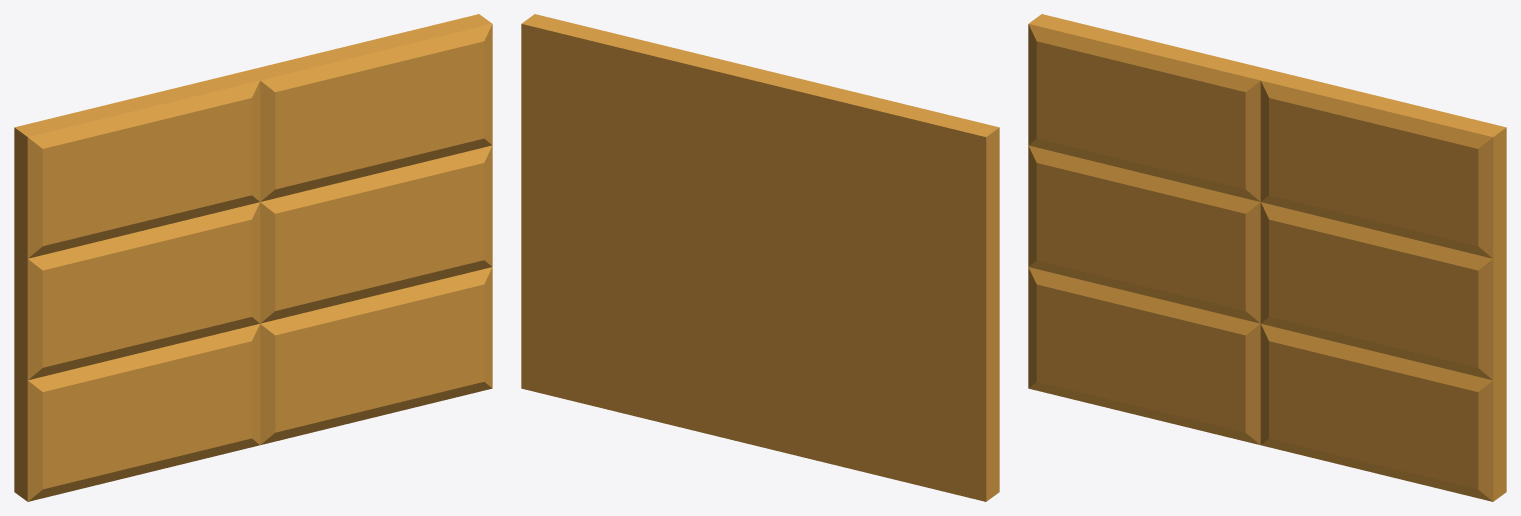
File: scifi-wall SB.fbx
3 views of the same model, side by side, from view 1: azimuth 30°, elevation 25°; view 2: azimuth 150°, elevation 25°; view 3: azimuth 330°, elevation 25° (orthographic).
Parts seen in each view (by area): view 1: scifi-wall; view 2: scifi-wall; view 3: scifi-wall.
Part boxes in pixels (bbox=[...]): scifi-wall: bbox=[14, 14, 492, 501]; scifi-wall: bbox=[521, 14, 999, 501]; scifi-wall: bbox=[1028, 14, 1506, 501].
Size of the model in its own units: 40000 by 30000 by 2500.
